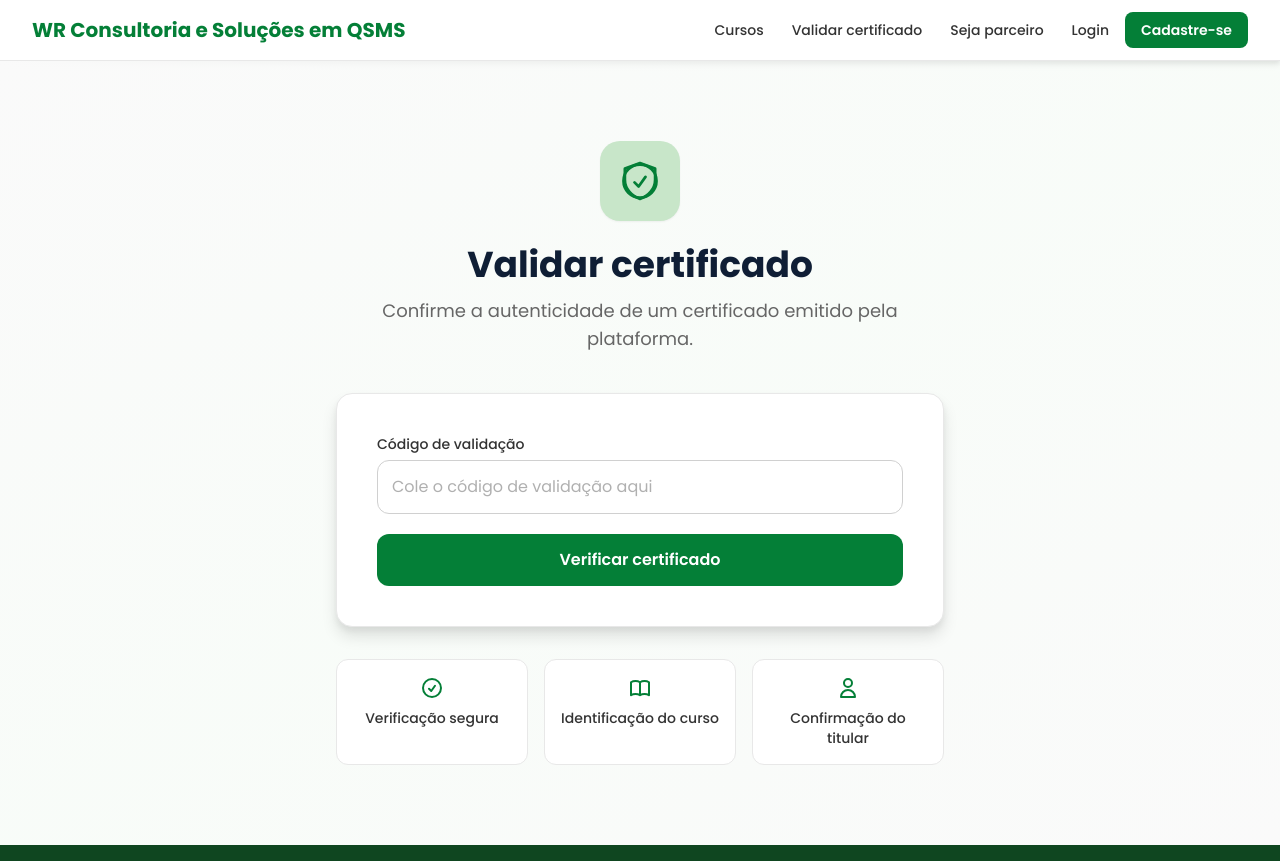
Test case: ValidateCertificate › shows invalid state on 400 (bad request)
The image size is (1280, 861).
Type "BAD-CODE" into the field with test id "validate-code-input" at x=640, y=487, box [377,460,903,514]
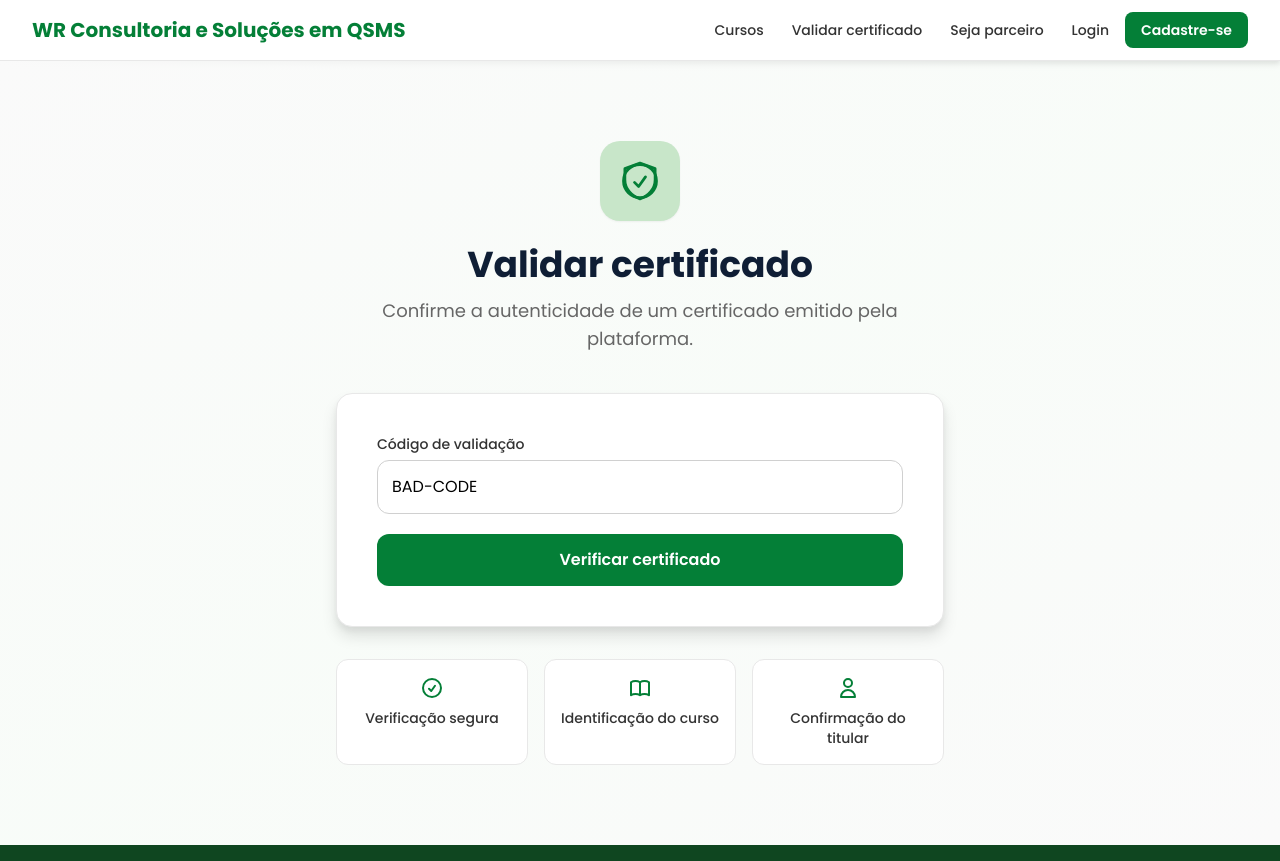
Submit the form, box [377,434,903,586]
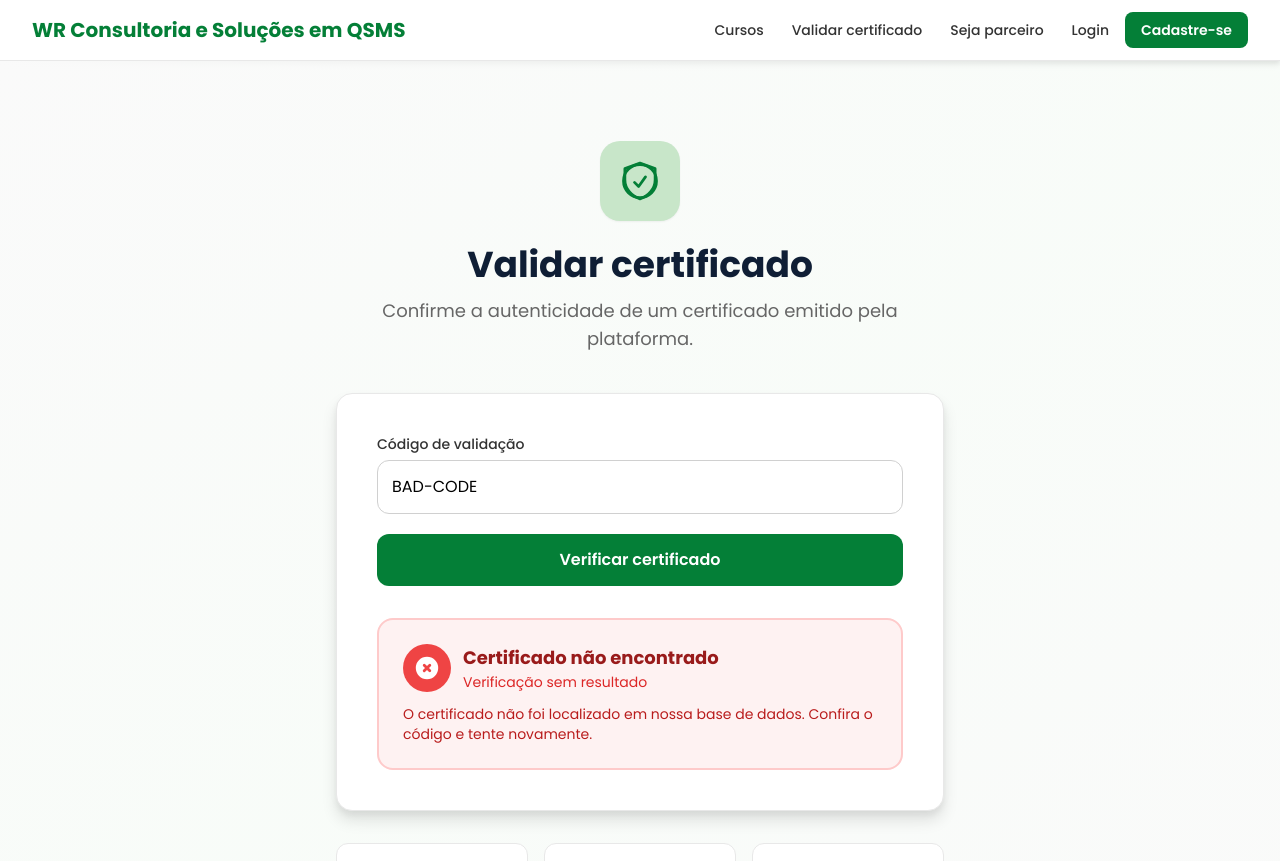
Expected: the element with test id "validate-invalid" is shown, [377,618,903,770]
